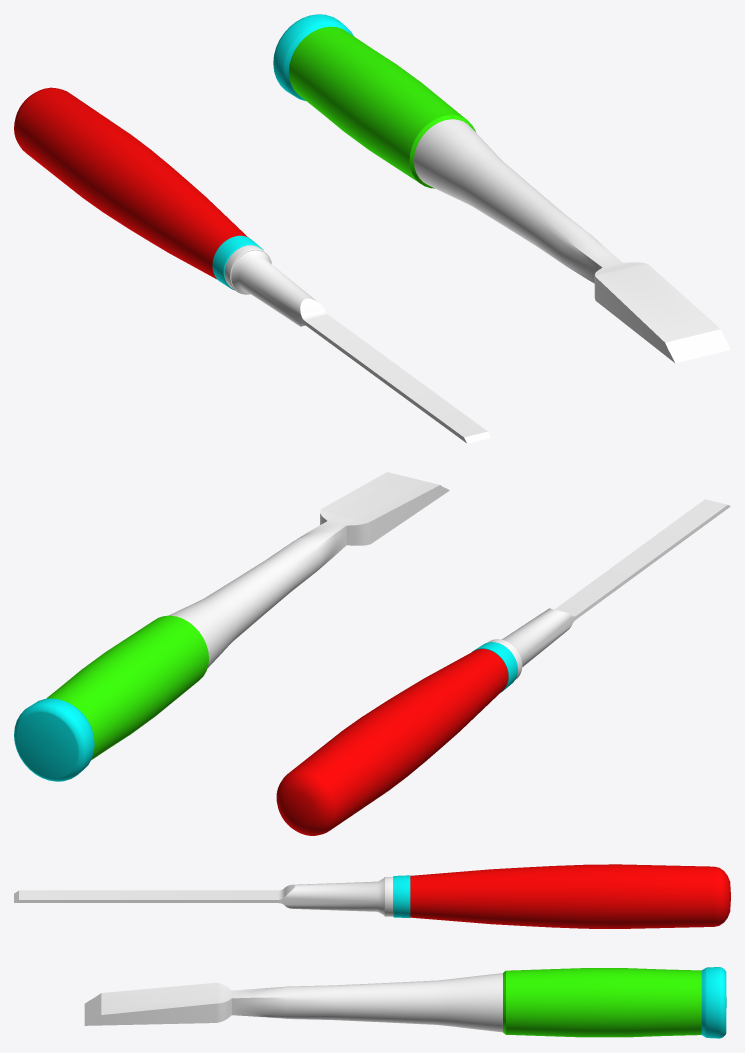
The model's file is стамеска и долото.fbx.
The picture shows the model from 3 angles, top to bottom: view 1: azimuth 30°, elevation 25°; view 2: azimuth 150°, elevation 25°; view 3: azimuth 270°, elevation 25°; orthographic projection. The views are drawn at different scales.
Visible parts, largest first — view 1: Circle.001, Cylinder.001, Circle, Cylinder; view 2: Cylinder.001, Circle, Circle.001, Cylinder; view 3: Cylinder.001, Circle.001, Circle, Cylinder.
Boxes of the visible parts, x1,y1,x2,y2 form: Circle.001: (414,119,730,363); Cylinder.001: (14,87,263,290); Circle: (273,14,475,188); Cylinder: (224,245,490,443); Cylinder.001: (276,642,517,835); Circle: (14,615,208,781); Circle.001: (169,472,449,668); Cylinder: (488,499,730,679); Cylinder.001: (393,864,730,928); Circle.001: (84,973,502,1032); Circle: (503,967,726,1038); Cylinder: (14,877,393,916).
Size of the model in its own units: 2525 by 568 by 5674.
